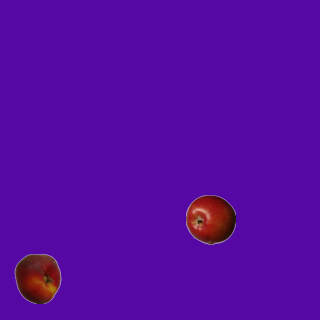Apple Braeburn: (185, 194, 235, 244)
Nectarine Flat: (12, 253, 62, 303)
